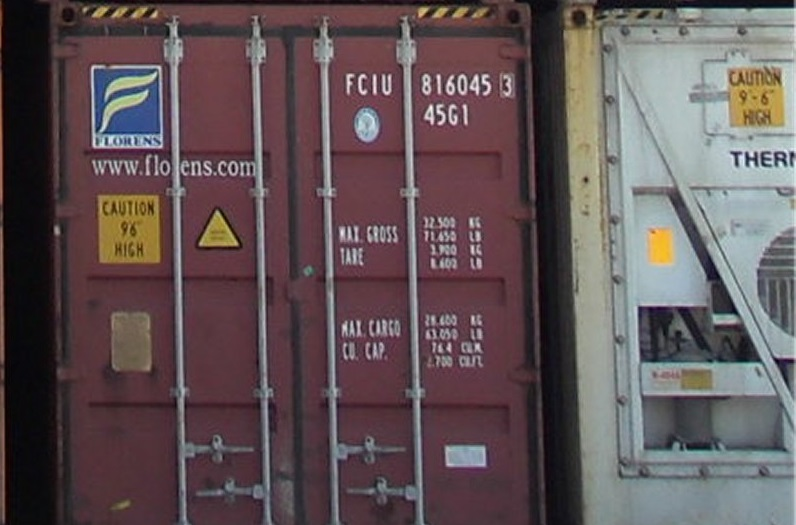container_door: (48, 1, 554, 518)
